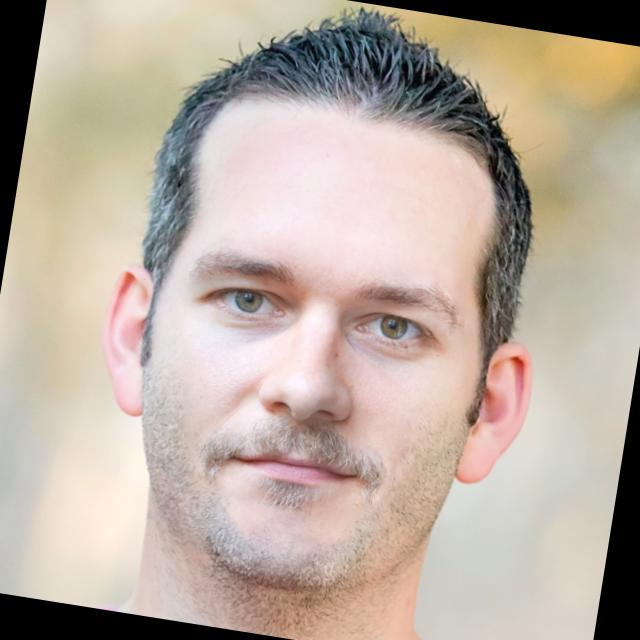face: (63, 0, 603, 628)
